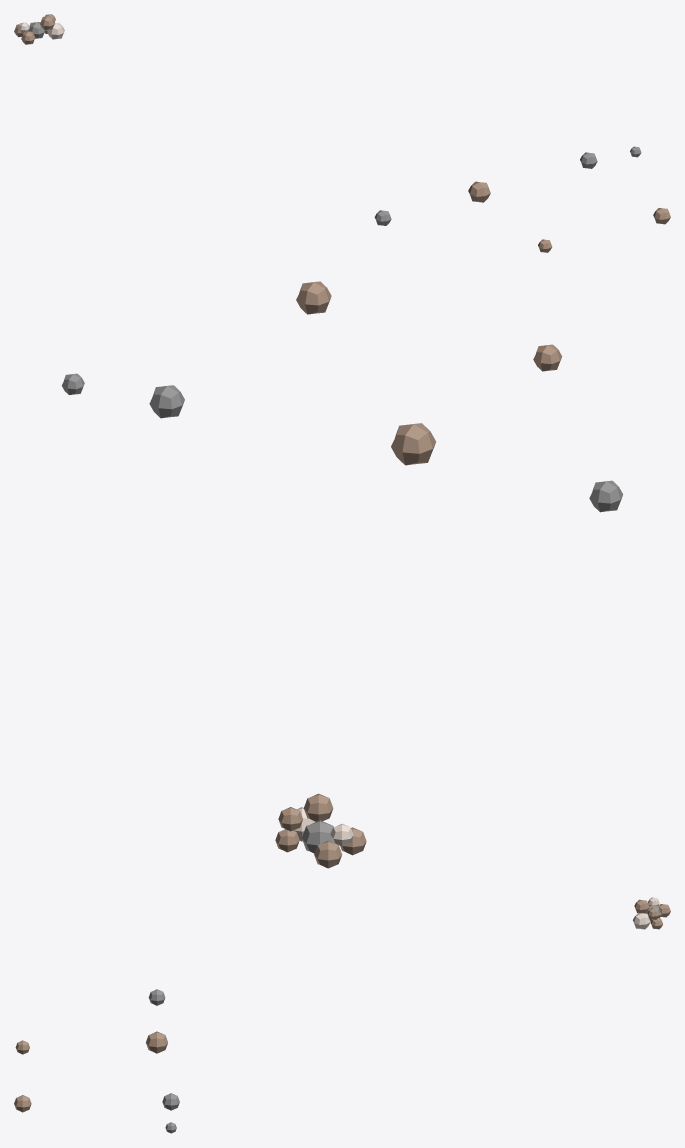
Rendered from Playground_figurine_circles.fbx.
The picture shows the model from 3 angles, top to bottom: view 1: azimuth 30°, elevation 25°; view 2: azimuth 150°, elevation 25°; view 3: azimuth 270°, elevation 25°; orthographic projection. The views are drawn at different scales.
Visible parts, largest first — view 1: Playground_figurine_circles; view 2: Playground_figurine_circles; view 3: Playground_figurine_circles.
Boxes of the visible parts, <box> form: Playground_figurine_circles: <box>14,14,670,252</box>; Playground_figurine_circles: <box>61,281,623,868</box>; Playground_figurine_circles: <box>14,897,670,1133</box>.
Bounding box in the file's own units: 186 × 27.23 × 273.
